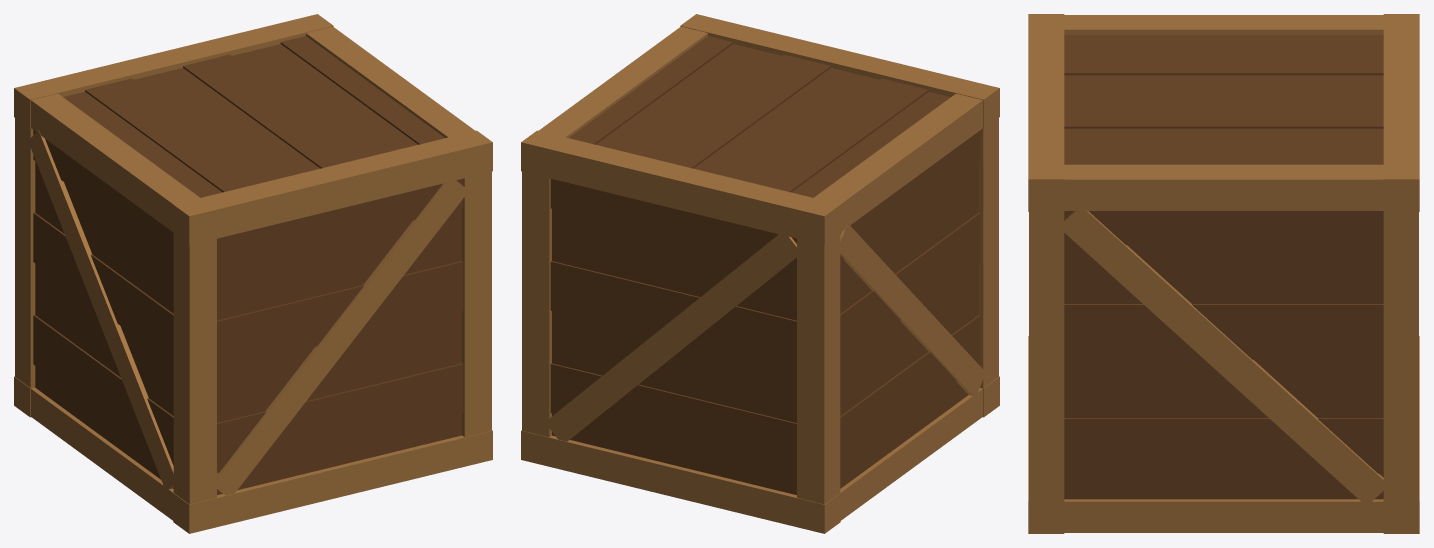
The model's file is crate.glb.
The picture shows the model from 3 angles, left to right: view 1: azimuth 30°, elevation 25°; view 2: azimuth 150°, elevation 25°; view 3: azimuth 270°, elevation 25°; orthographic projection. The views are drawn at different scales.
Parts seen in each view (by area): view 1: Crate; view 2: Crate; view 3: Crate.
Part boxes in pixels (x1,y1,x2,y2): Crate: (14,14,492,533); Crate: (521,14,999,533); Crate: (1028,14,1419,533).
Bounding box in the file's own units: 1.2 × 1.2 × 1.2.
